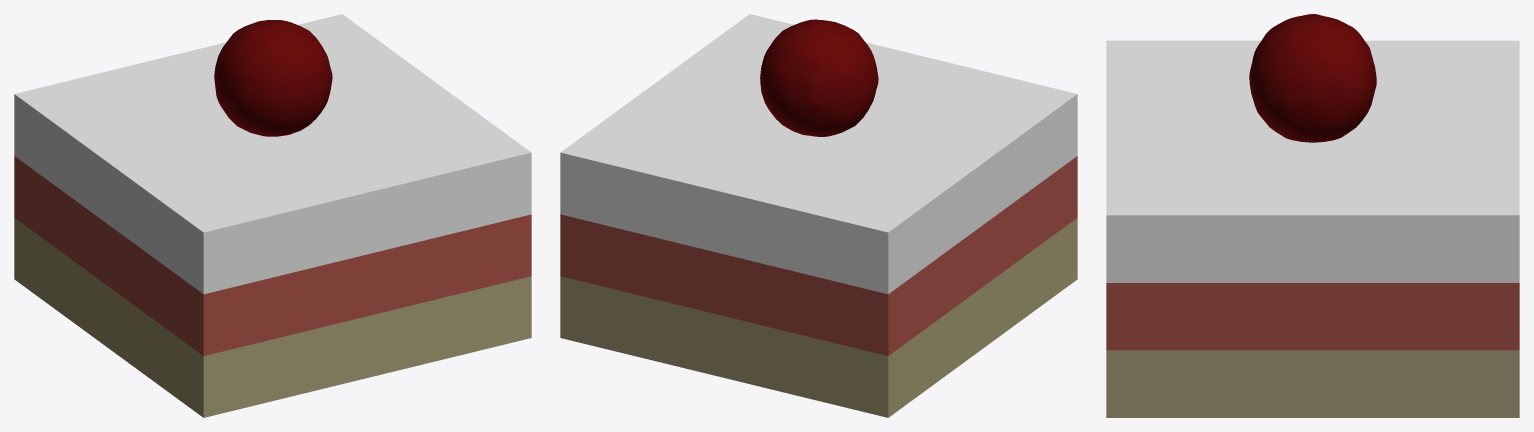
File: Cake.fbx
3 views of the same model, side by side, from view 1: azimuth 30°, elevation 25°; view 2: azimuth 150°, elevation 25°; view 3: azimuth 270°, elevation 25° (orthographic). The views are drawn at different scales.
Parts seen in each view (by area): view 1: cake, cherry; view 2: cake, cherry; view 3: cake, cherry.
Boxes of the visible parts, left/top/right/bottom form: cake: left=14, top=14, right=531, bottom=417; cherry: left=214, top=20, right=332, bottom=136; cake: left=560, top=14, right=1077, bottom=417; cherry: left=760, top=19, right=878, bottom=136; cake: left=1106, top=40, right=1519, bottom=417; cherry: left=1249, top=14, right=1376, bottom=142.
Size of the model in its own units: 1 by 0.8248 by 1.
